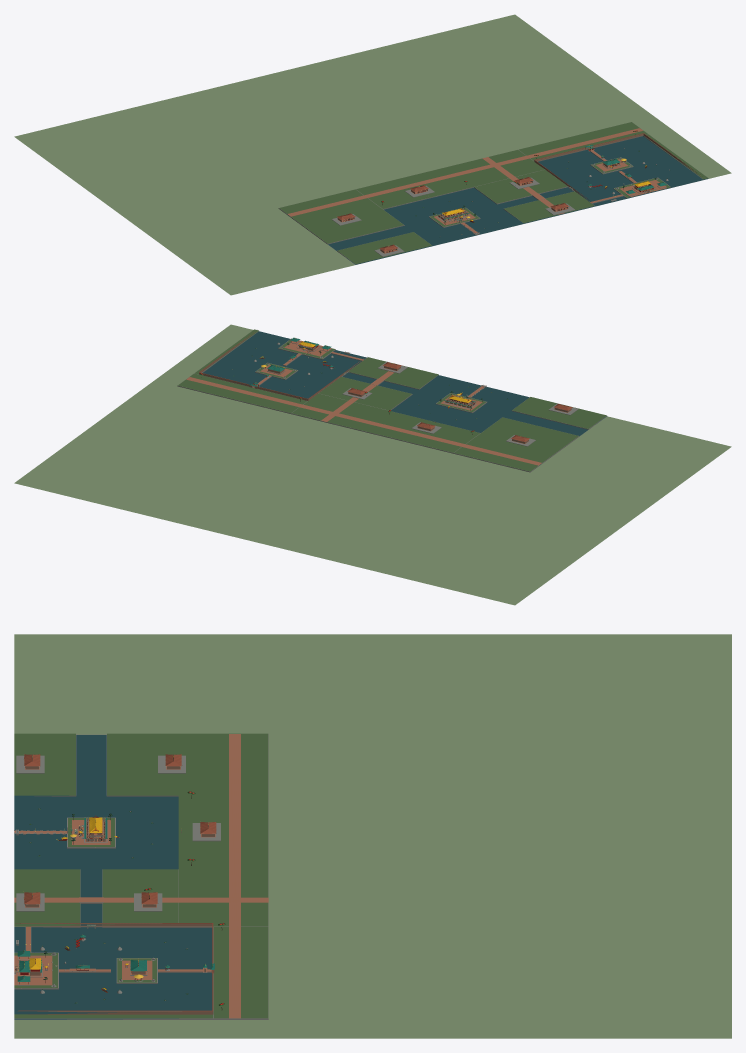
Rendered from T24_tinh_tam_bac_tang_thu_lau.glb.
3 renders of one model, top to bottom at view 1: azimuth 30°, elevation 25°; view 2: azimuth 150°, elevation 25°; view 3: azimuth 270°, elevation 25°, orthographic. The views are drawn at different scales.
Parts seen in each view (by area): view 1: T24_V2_Satellite_Seamless_Base, T24_Static_Root; view 2: T24_V2_Satellite_Seamless_Base, T24_Static_Root; view 3: T24_V2_Satellite_Seamless_Base, T24_Static_Root.
Boxes of the visible parts, box(x1,y1,x2,y2) form: T24_V2_Satellite_Seamless_Base: box(14, 14, 731, 295); T24_Static_Root: box(278, 122, 708, 264); T24_V2_Satellite_Seamless_Base: box(14, 324, 731, 605); T24_Static_Root: box(177, 329, 606, 472); T24_V2_Satellite_Seamless_Base: box(14, 634, 731, 1038); T24_Static_Root: box(14, 733, 268, 1019).
Size of the model in its own units: 880 by 12.62 by 660.
22 materials, 4 textured.
